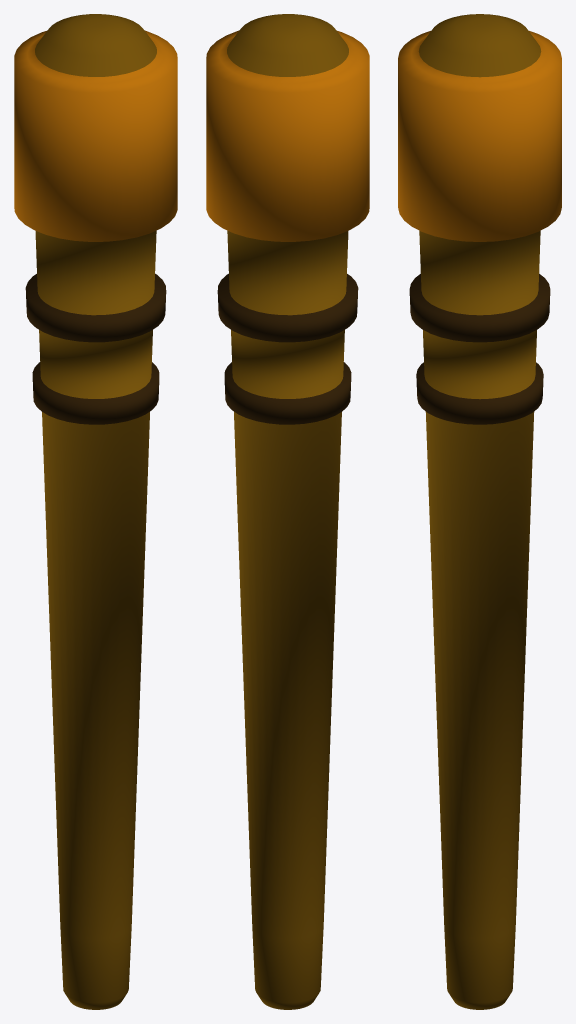
File: Fackel.fbx
The picture shows the model from 3 angles, left to right: view 1: azimuth 30°, elevation 25°; view 2: azimuth 150°, elevation 25°; view 3: azimuth 270°, elevation 25°; orthographic projection.
Parts seen in each view (by area): view 1: Zylinder; view 2: Zylinder; view 3: Zylinder.
Part boxes in pixels (bbox=[...]): Zylinder: bbox=[14, 14, 177, 1009]; Zylinder: bbox=[206, 14, 369, 1009]; Zylinder: bbox=[398, 14, 561, 1009].
Bounding box in the file's own units: 201 × 1331 × 201.
